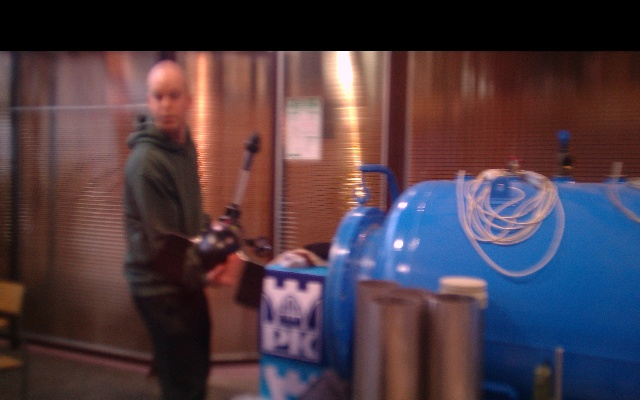black: (231, 161, 254, 208)
